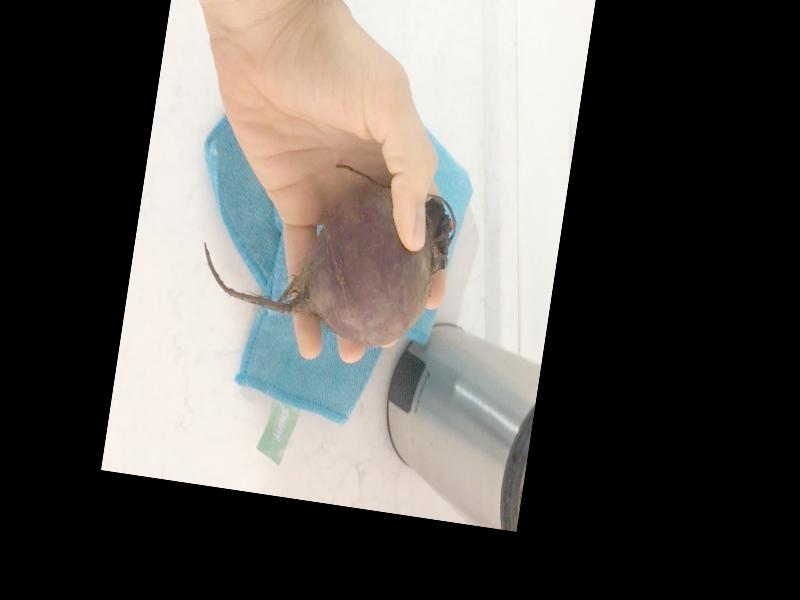Beet: (192, 147, 461, 356)
